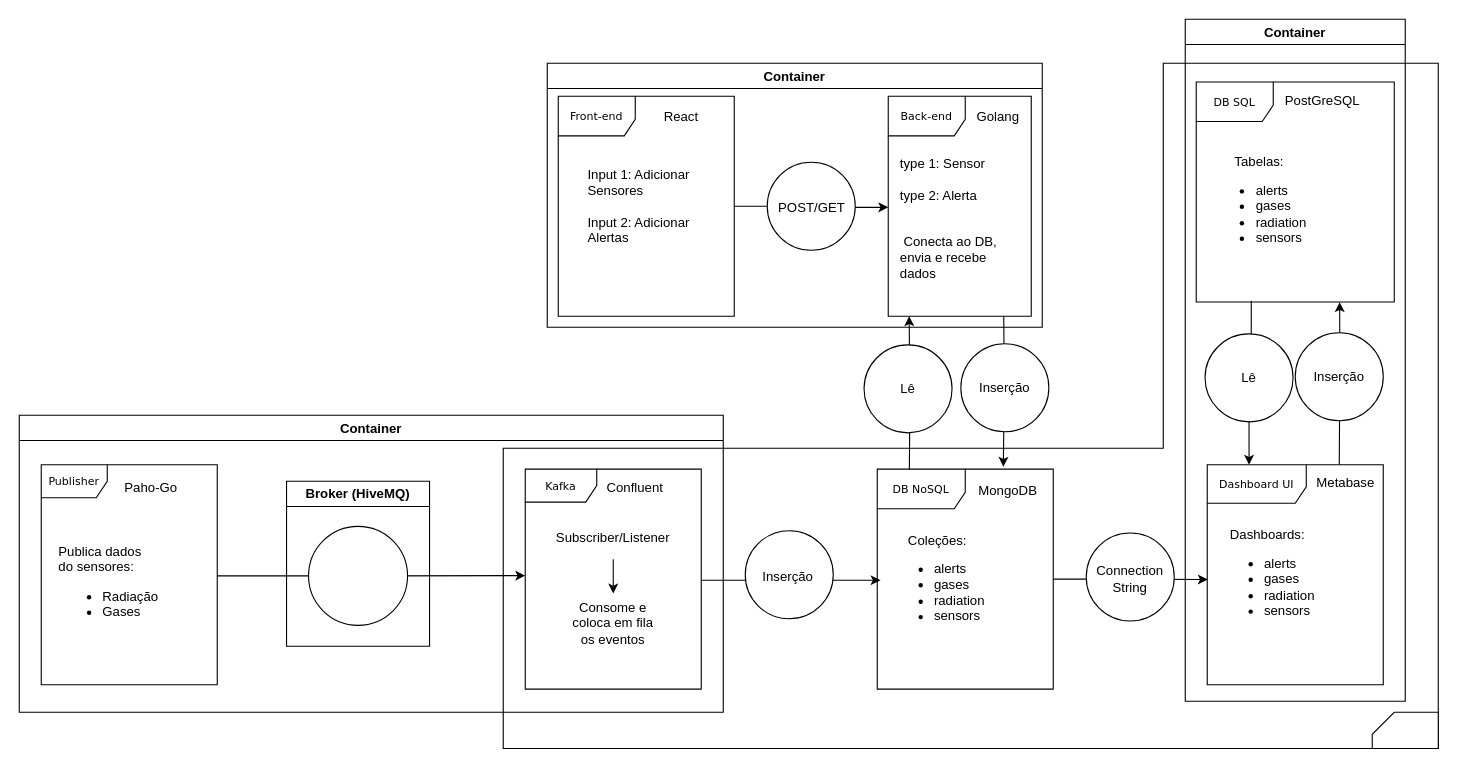
Image size: 1458x768. Some labels were removed from this diagram. Each missing label, with the centre of its shape:
"AWS" belongs at (1404,730).
"Publica em tópicos de cada tipo de sensor" belongs at (357,575).
